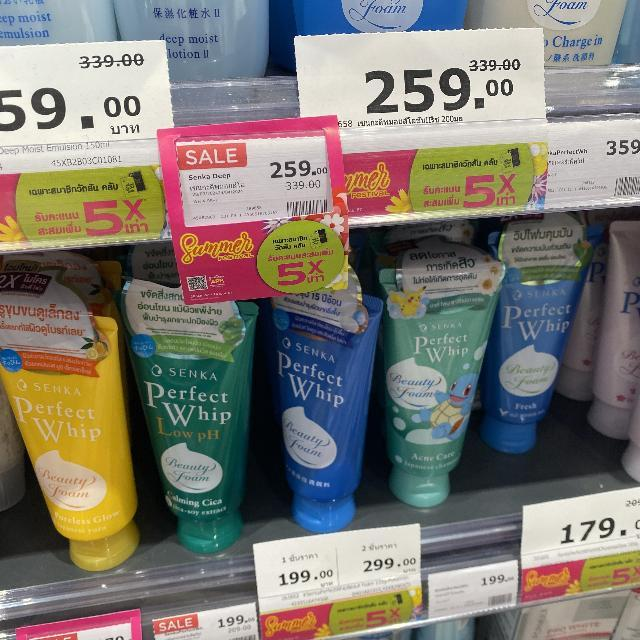Squeeze Tube: (3, 243, 498, 574)
